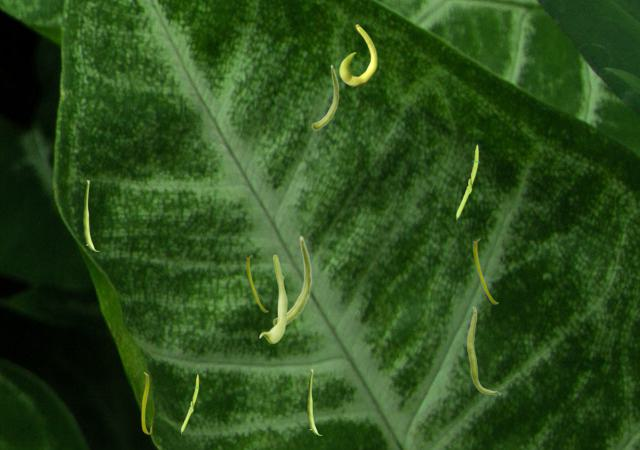french_bean: (272, 235, 311, 325), (466, 306, 500, 394), (259, 254, 286, 342), (339, 24, 376, 85), (455, 143, 478, 226), (311, 64, 338, 129), (473, 238, 497, 303), (246, 255, 267, 311), (180, 373, 198, 438), (83, 180, 98, 250), (307, 369, 321, 434), (141, 372, 150, 433)
